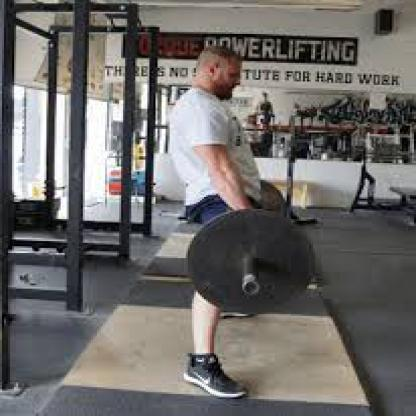barbell: (186, 179, 317, 316)
